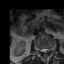CCS_normal: (44, 45, 46, 56)
LFS_normal: (48, 45, 51, 54)
LLS_normal: (46, 45, 48, 54)
RFS_normal: (38, 45, 41, 54)
RLS_normal: (41, 46, 44, 54)
